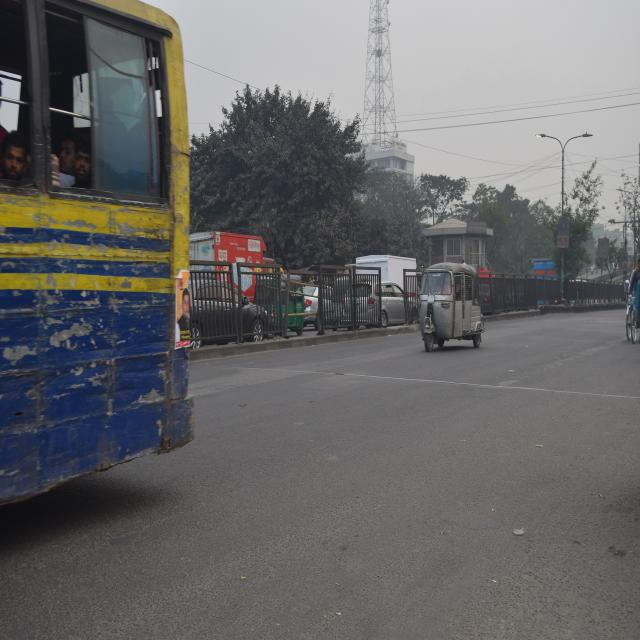bus: (0, 0, 225, 521)
car: (190, 274, 274, 348), (344, 279, 418, 329), (303, 281, 345, 329)
pickup-van: (190, 217, 290, 301)
